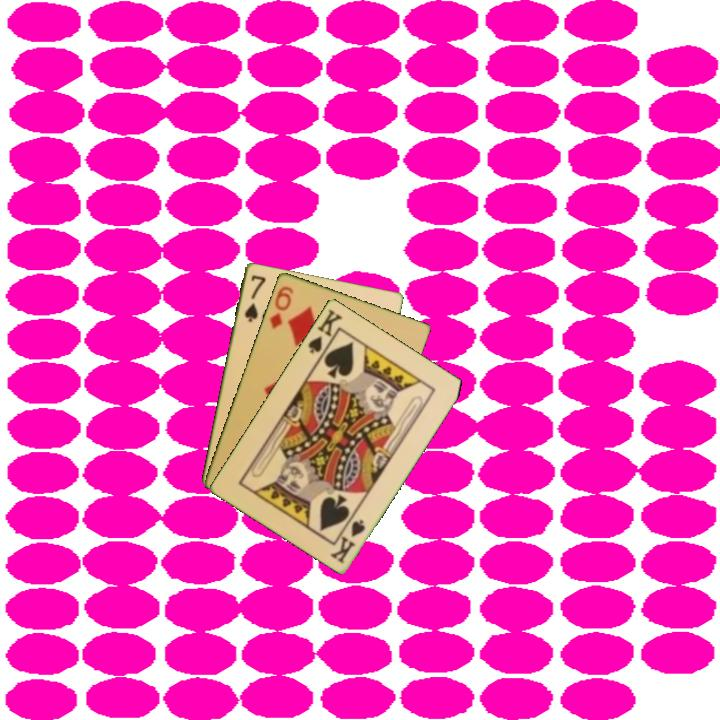6d: (265, 282, 296, 331)
7s: (241, 271, 268, 325)
Ks: (304, 305, 345, 362), (327, 515, 368, 566)
